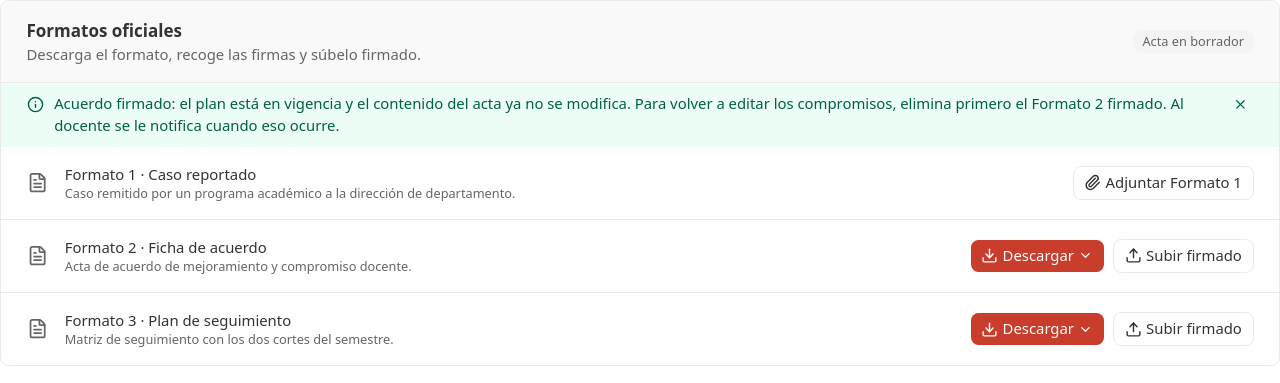
PlanDocuments · el acuerdo se firma, no se cierra › el aviso de vigencia se puede cerrar una vez leído
The width and height of the screenshot is (1280, 383).
Click the button named "Cerrar el aviso" at (1241, 104), box [1228,91,1254,117]
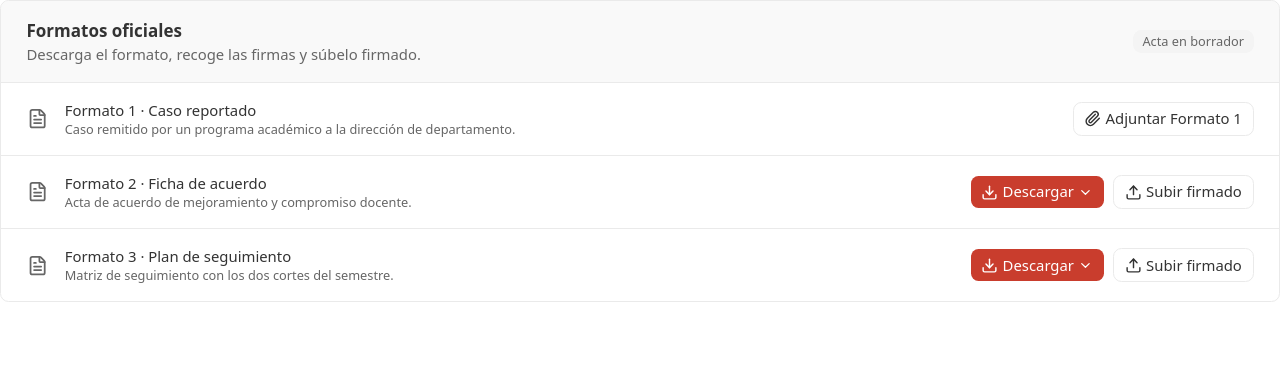
Check: the text "el plan está en vigencia" is gone
